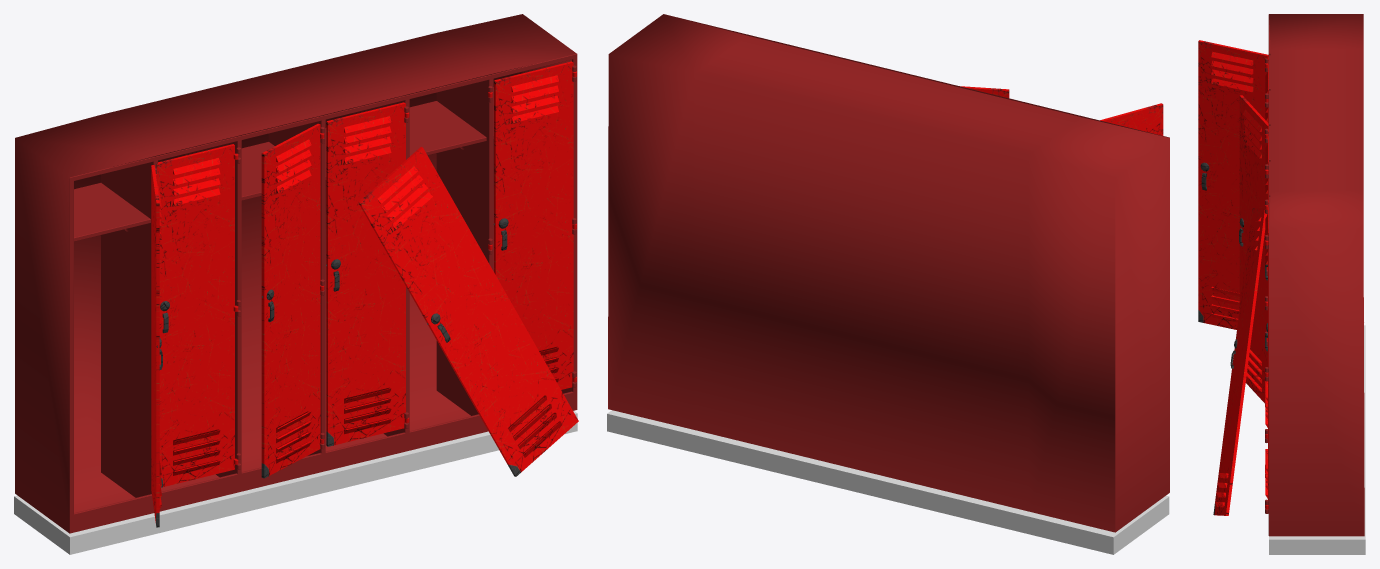
File: HileraCasilleros.fbx
The picture shows the model from 3 angles, left to right: view 1: azimuth 30°, elevation 25°; view 2: azimuth 150°, elevation 25°; view 3: azimuth 270°, elevation 25°; orthographic projection. The views are drawn at different scales.
Parts seen in each view (by area): view 1: CasilleroMultiple; view 2: CasilleroMultiple; view 3: CasilleroMultiple.
Boxes of the visible parts, left/top/right/bottom form: CasilleroMultiple: left=14, top=14, right=578, bottom=554; CasilleroMultiple: left=607, top=14, right=1169, bottom=554; CasilleroMultiple: left=1198, top=14, right=1365, bottom=554.
Bounding box in the file's own units: 856 × 611 × 283.
